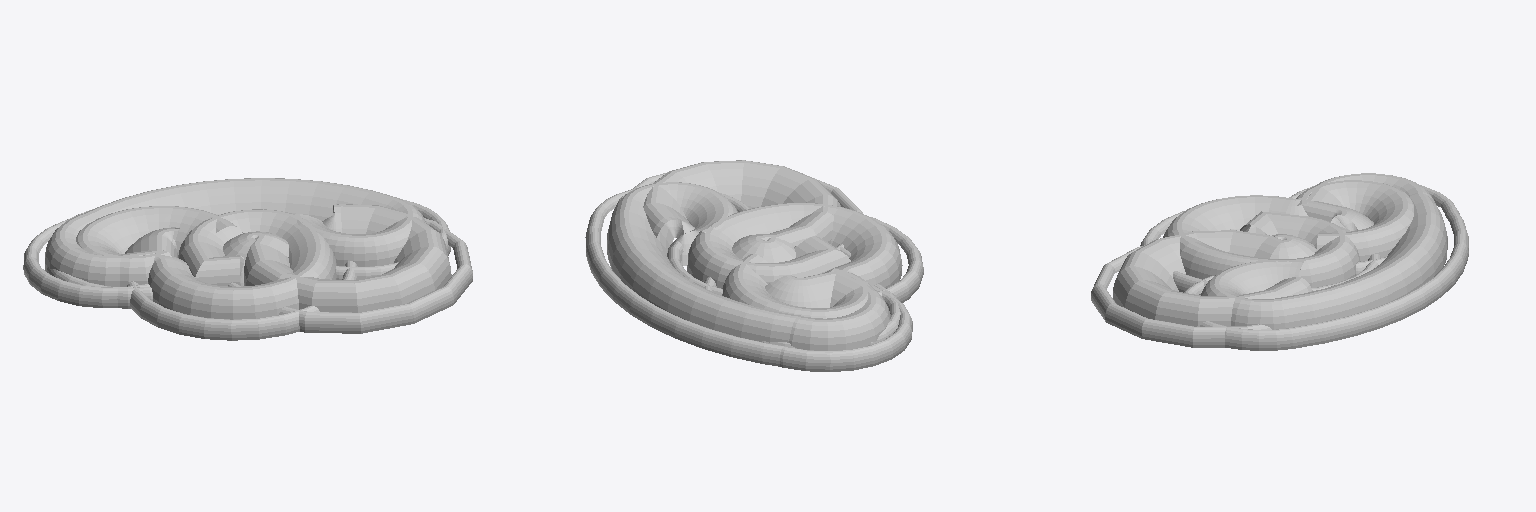
Rendered from black.obj.
3 renders of one model, left to right at view 1: azimuth 30°, elevation 25°; view 2: azimuth 150°, elevation 25°; view 3: azimuth 270°, elevation 25°, orthographic.
Visible parts, largest first — view 1: Group_004; view 2: Group_004; view 3: Group_004.
Boxes of the visible parts, x1,y1,x2,y2 form: Group_004: [23, 178, 472, 340]; Group_004: [585, 160, 923, 371]; Group_004: [1091, 173, 1468, 350].
Size of the model in its own units: 0.4497 by 0.0576 by 0.4179.